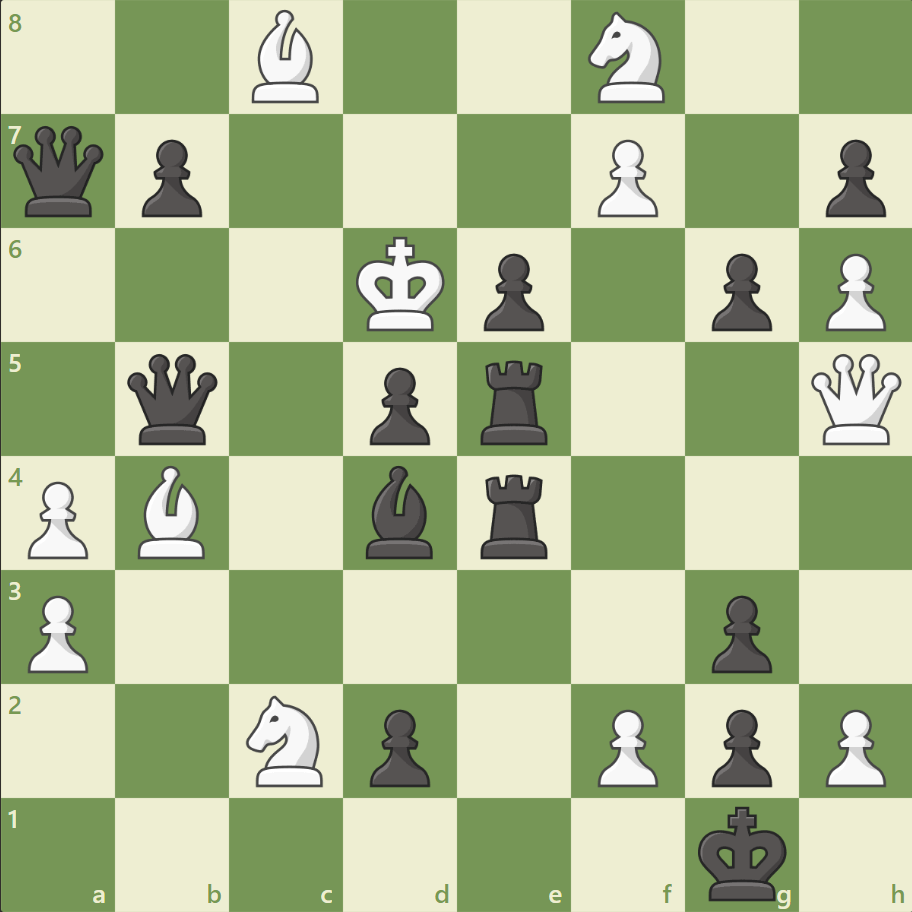B: (244, 6, 328, 109), (131, 460, 215, 563)
K: (351, 231, 451, 339)
N: (579, 7, 676, 110), (238, 688, 335, 791)
P: (20, 473, 95, 564), (20, 586, 95, 677), (588, 132, 662, 223), (815, 246, 889, 337), (588, 700, 662, 791), (815, 700, 889, 791)
Q: (805, 349, 904, 449)
b: (358, 460, 442, 563)
k: (692, 798, 792, 906)
p: (133, 132, 208, 223), (474, 246, 549, 337), (701, 246, 776, 337), (701, 586, 776, 677), (701, 700, 776, 791), (815, 132, 889, 223), (361, 359, 435, 450), (361, 700, 435, 791)
q: (10, 122, 109, 222), (124, 349, 223, 449)
r: (473, 352, 556, 449), (473, 466, 556, 563)
